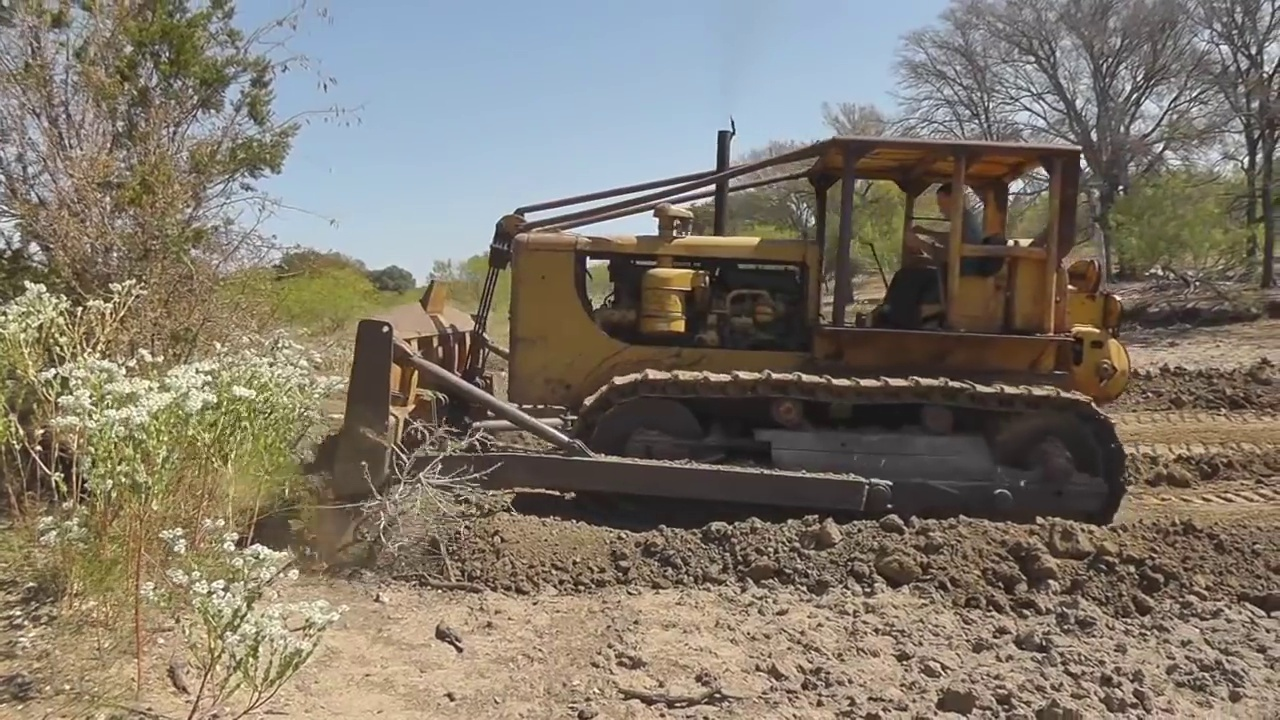bulldozer: (306, 126, 1136, 545)
